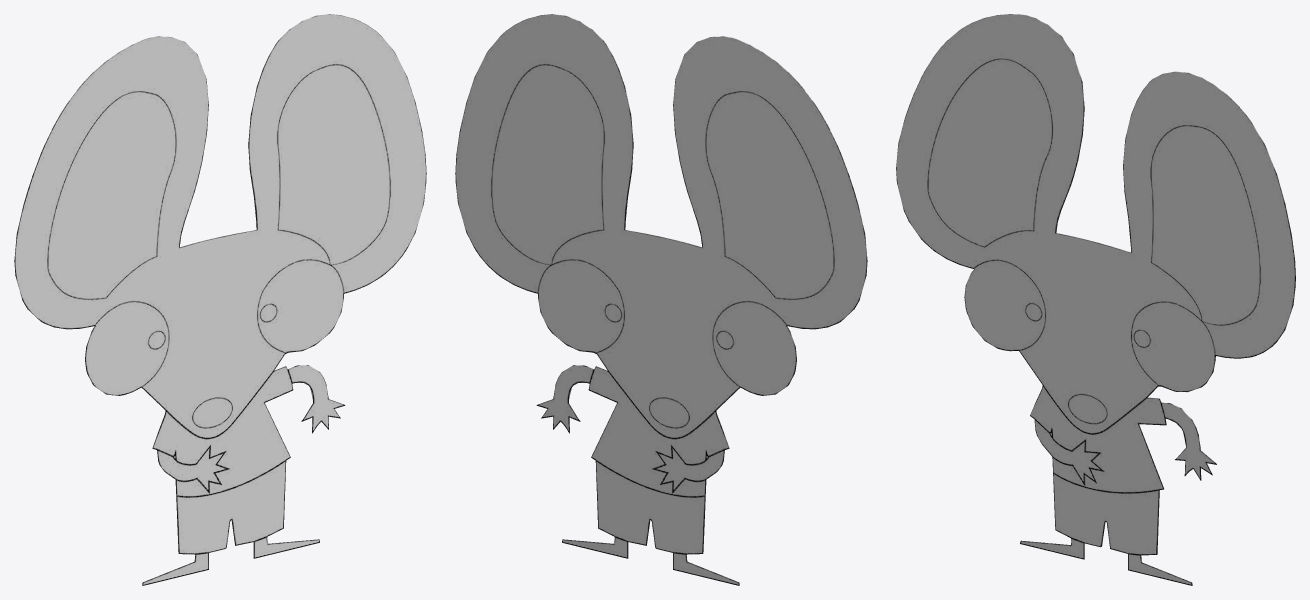
The model's file is 27_momo.fbx.
The picture shows the model from 3 angles, left to right: view 1: azimuth 30°, elevation 25°; view 2: azimuth 150°, elevation 25°; view 3: azimuth 330°, elevation 25°; orthographic projection. The views are drawn at different scales.
Visible parts, largest first — view 1: planarTrimmedSurface11; view 2: planarTrimmedSurface11; view 3: planarTrimmedSurface11.
Part boxes in pixels (x1=…): planarTrimmedSurface11: x1=14, y1=14, x2=426, y2=585; planarTrimmedSurface11: x1=455, y1=14, x2=867, y2=585; planarTrimmedSurface11: x1=896, y1=14, x2=1295, y2=585.
Size of the model in its own units: 20.83 by 26.41 by 0.0446.
Materials: 1 (1 with a texture image).
